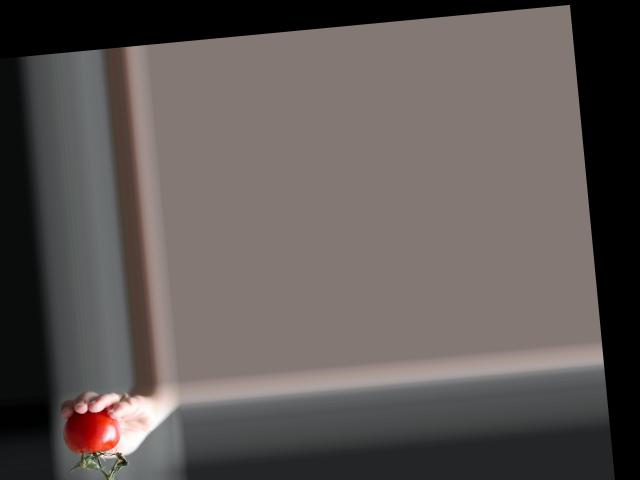tomato: (61, 407, 122, 456)
